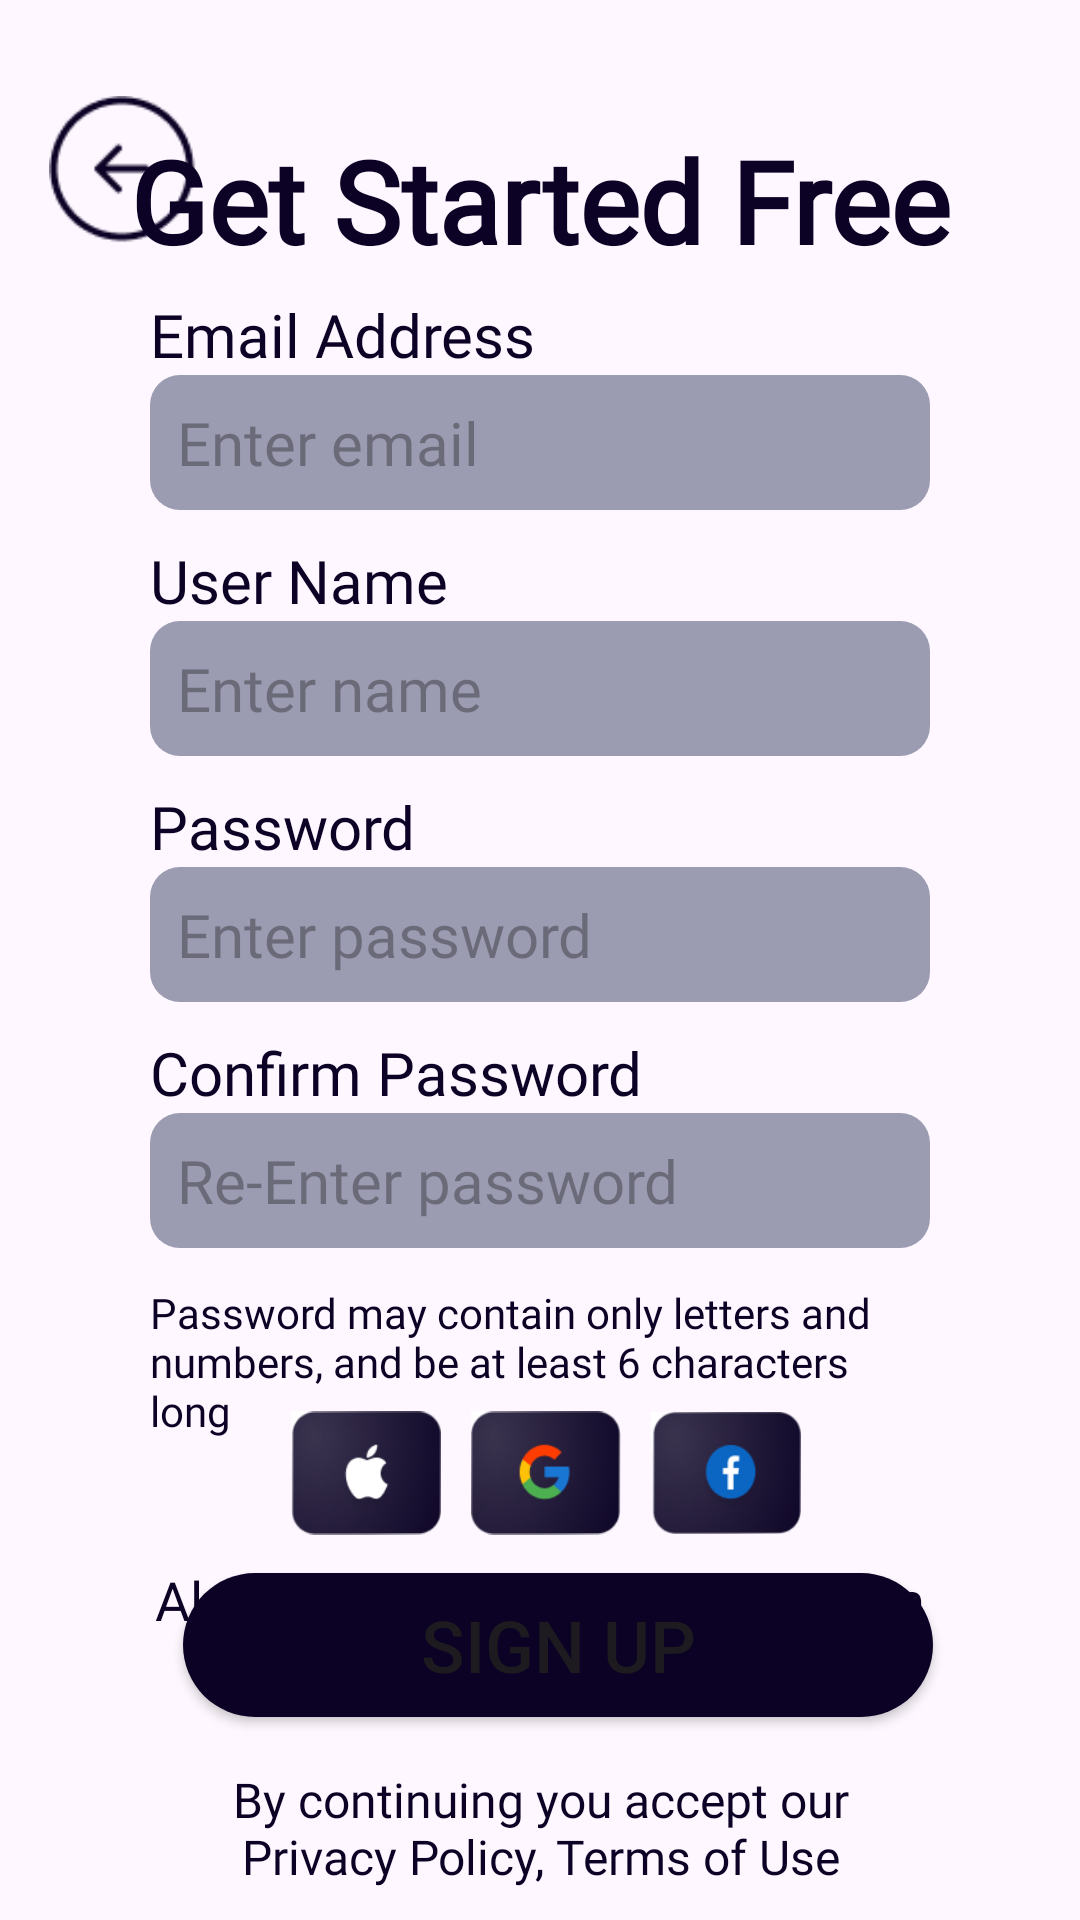

Locate icon controls on the screen. Image size 1080px×1920px, boxes as [x1=x1, y1=y1, x2=x2, y2=y2].
backarrow: [x1=49, y1=96, x2=198, y2=246]
